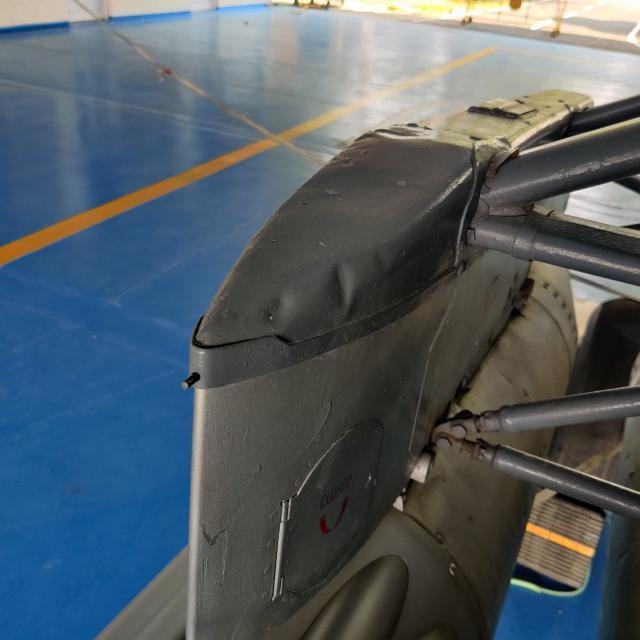Dent: (251, 284, 305, 342), (332, 262, 359, 318)
